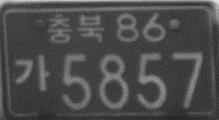5: (61, 51, 92, 111), (135, 51, 166, 108)
6: (142, 10, 166, 43)
7: (169, 50, 205, 111)
8: (99, 52, 129, 110), (115, 11, 140, 43)
가: (13, 53, 50, 93)
충북_O: (46, 12, 105, 43)
